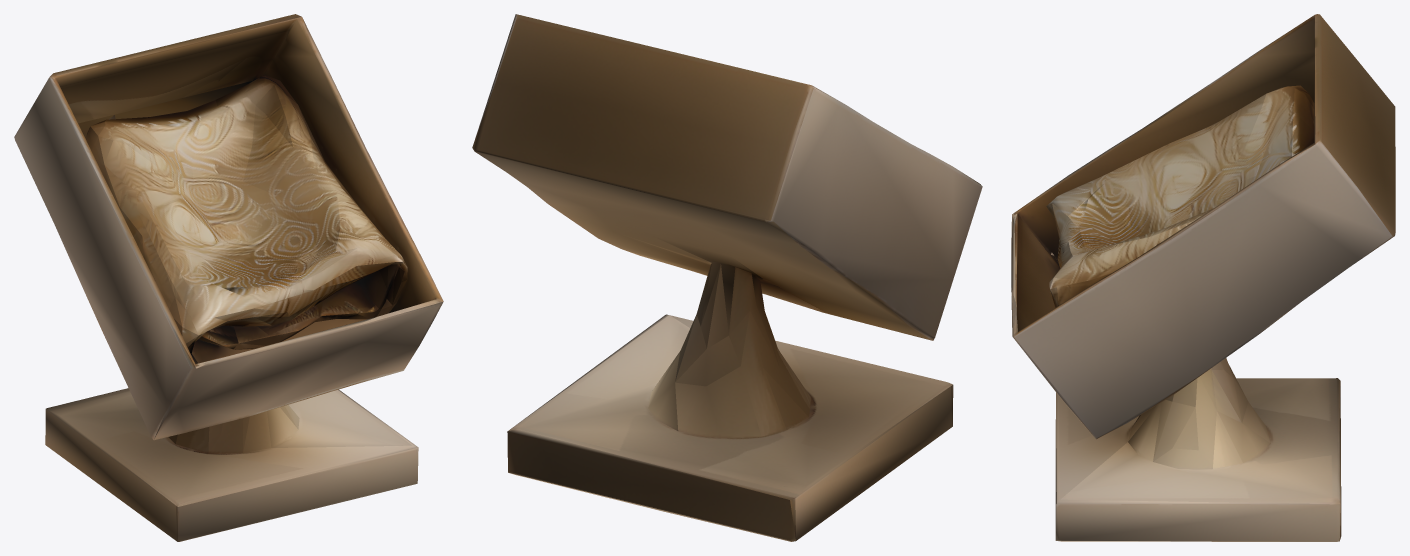
Rendered from product-lijin-003-web.glb.
3 renders of one model, left to right at view 1: azimuth 30°, elevation 25°; view 2: azimuth 150°, elevation 25°; view 3: azimuth 270°, elevation 25°, orthographic. The views are drawn at different scales.
Visible parts, largest first — view 1: material; view 2: material; view 3: material.
Part boxes in pixels (x1,y1,x2,y2): material: [14, 14, 443, 541]; material: [472, 14, 982, 541]; material: [1011, 14, 1395, 541].
Size of the model in its own units: 0.6159 by 0.8879 by 0.7634.
Materials: 1 (1 with a texture image).
